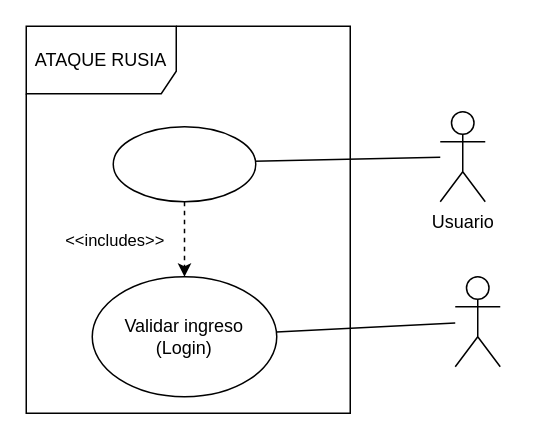
Some shapes in this 536 by 440 pixel diagram are drawn without their labels. The centre of each missing label's shape, as x and y in pixels:
"Bomba (Ataque)" belongs at pixel 184 163.
"Sistema" belongs at pixel 477 321.
